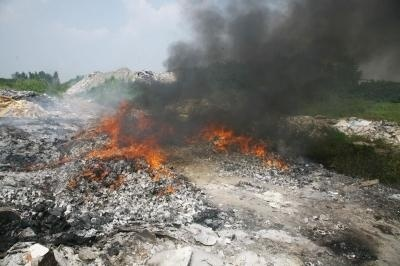fire: (77, 101, 175, 183), (200, 125, 292, 169)
